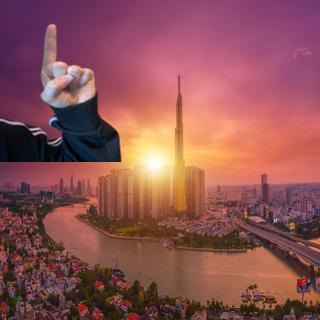IRRITATED: (37, 20, 99, 113)
